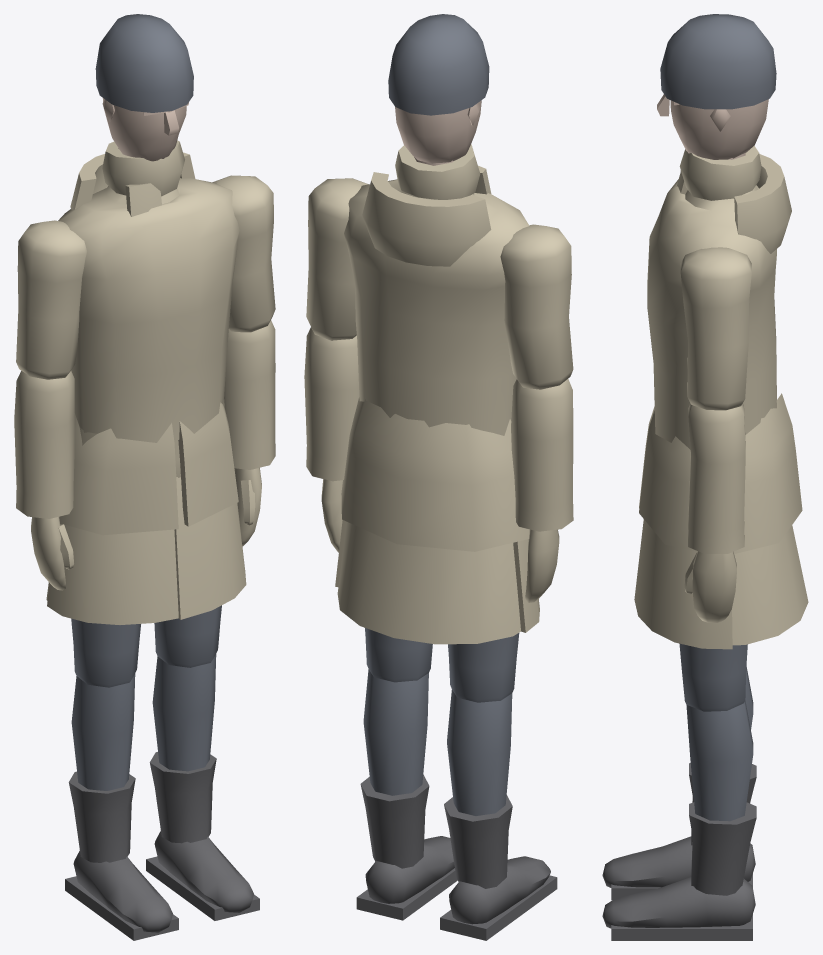
File: civilian2.glb
3 views of the same model, side by side, from view 1: azimuth 30°, elevation 25°; view 2: azimuth 150°, elevation 25°; view 3: azimuth 270°, elevation 25° (orthographic). The views are drawn at different scales.
Visible parts, largest first — view 1: torso, skirt, forearm_r, coat_r, boot_l, boot_r, arm_r, forearm_l, hat, coat_l, arm_l, shin_r (+4 smaller); view 2: torso, skirt, coat_back, forearm_r, arm_r, boot_r, boot_l, hat, forearm_l, arm_l, shin_l, shin_r (+4 smaller); view 3: torso, boot_l, skirt, forearm_l, arm_l, hat, shin_l, coat_back, coat_l, head, boot_r, leg_l.
Part boxes in pixels (<box>): torso: <box>58,140,239,442</box>; skirt: <box>59,402,238,535</box>; forearm_r: <box>14,371,74,590</box>; coat_r: <box>47,477,178,624</box>; boot_l: <box>146,752,259,920</box>; boot_r: <box>65,771,178,940</box>; arm_r: <box>16,220,86,379</box>; forearm_l: <box>224,320,275,546</box>; hat: <box>95,14,193,112</box>; coat_l: <box>174,477,246,619</box>; arm_l: <box>212,175,275,332</box>; shin_r: <box>71,673,135,790</box>; torso: <box>344,144,529,435</box>; skirt: <box>341,397,529,551</box>; coat_back: <box>337,522,520,644</box>; forearm_r: <box>511,379,573,602</box>; arm_r: <box>500,224,573,389</box>; boot_r: <box>440,795,557,940</box>; boot_l: <box>356,774,457,920</box>; hat: <box>388,14,489,115</box>; forearm_l: <box>304,327,359,552</box>; arm_l: <box>306,178,368,340</box>; shin_l: <box>363,669,428,795</box>; shin_r: <box>447,690,512,815</box>; torso: <box>647,146,791,449</box>; boot_l: <box>602,802,756,940</box>; skirt: <box>639,393,802,553</box>; forearm_l: <box>684,403,745,622</box>; arm_l: <box>680,247,751,410</box>; hat: <box>660,14,776,109</box>; shin_l: <box>686,700,753,821</box>; coat_back: <box>732,525,808,645</box>; coat_l: <box>634,519,732,649</box>; head: <box>657,94,768,159</box>; boot_r: <box>602,763,756,900</box>; leg_l: <box>679,643,747,711</box>.
Size of the model in its own units: 0.5438 by 1.8 by 0.377.
